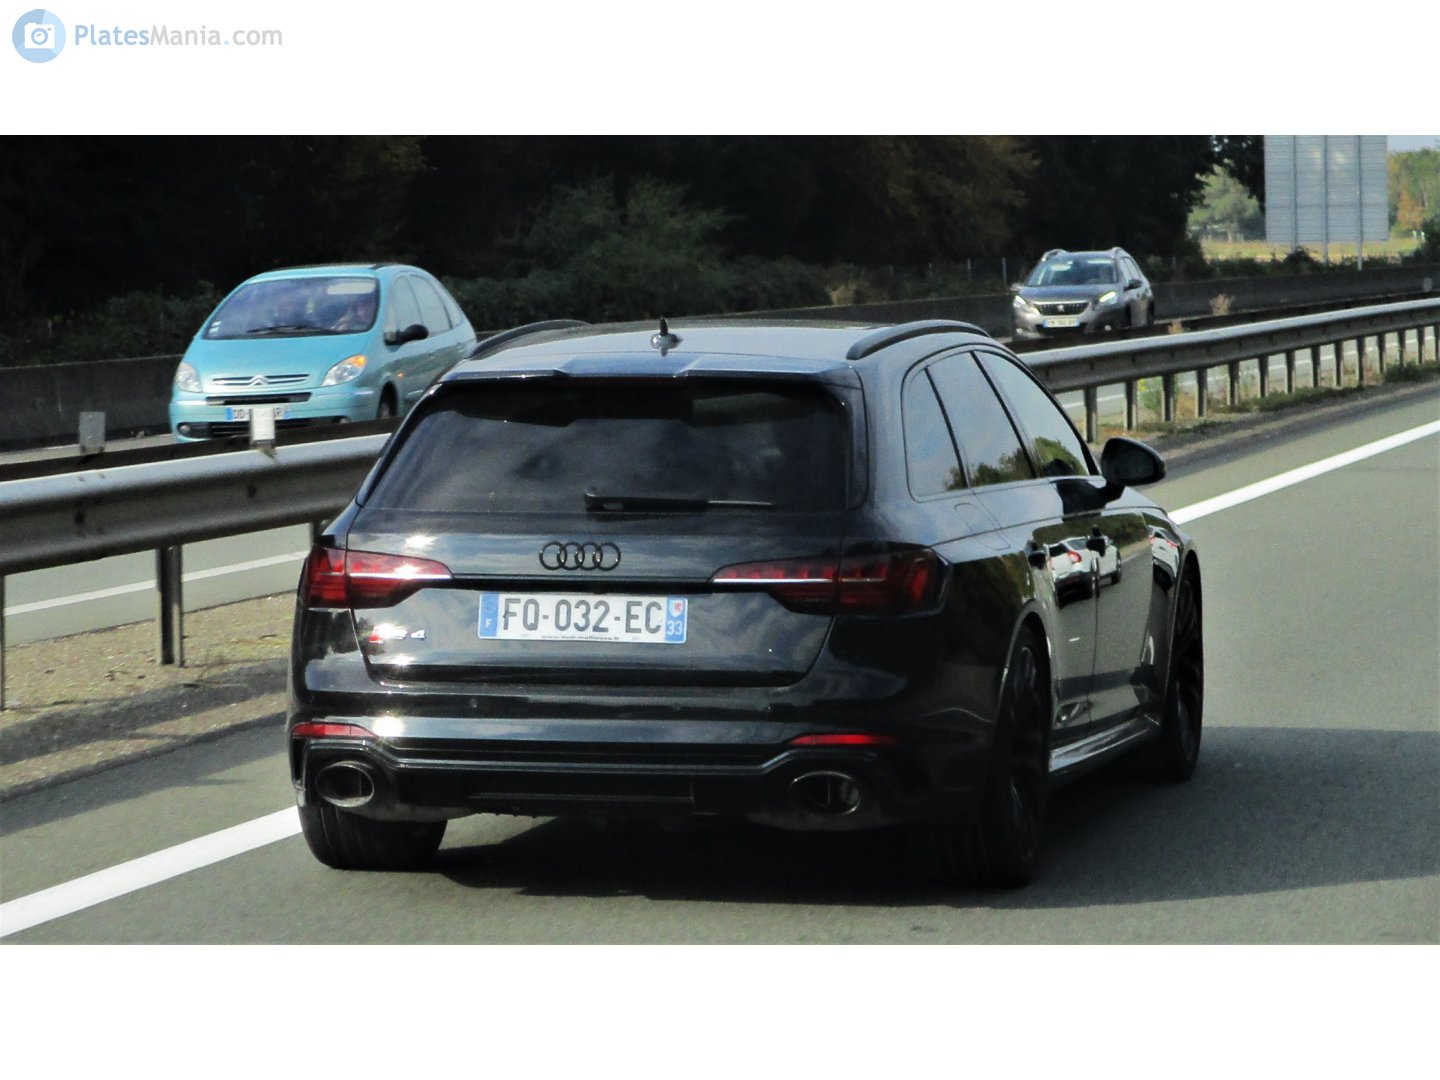licence plate: (475, 589, 687, 649)
